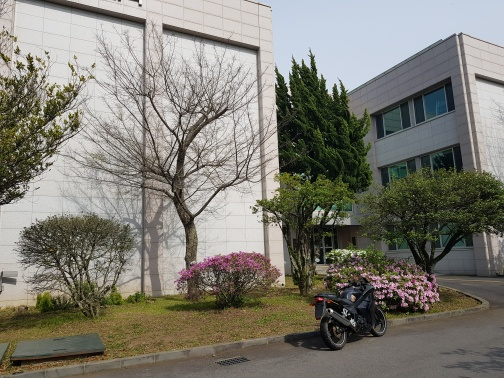College of Nursing: (7, 10, 493, 272)
